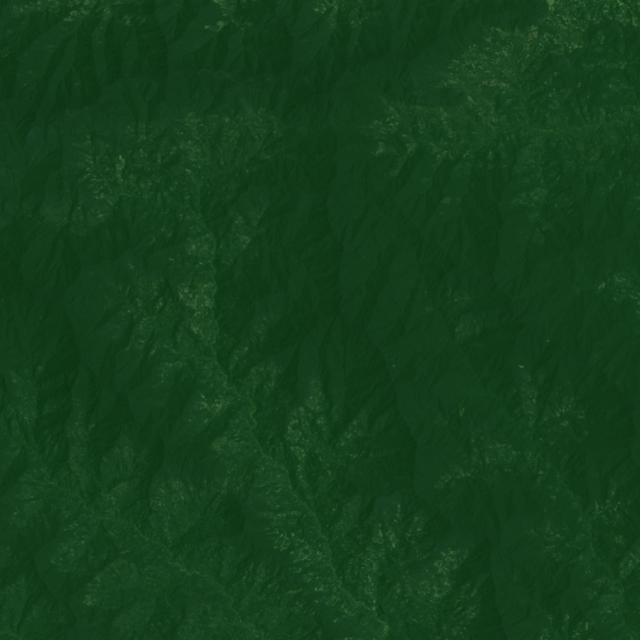landslides: (205, 25, 221, 32)
